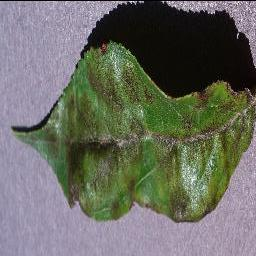apple healthy: (10, 0, 255, 224)
